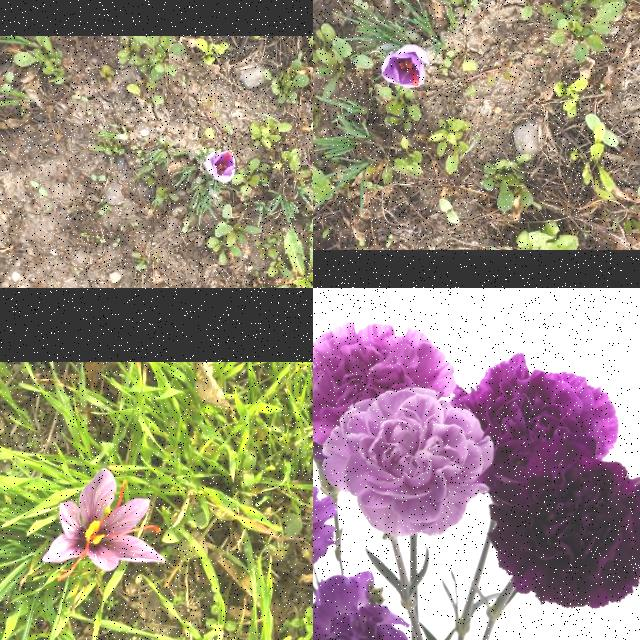flower: (42, 468, 166, 582), (382, 44, 431, 88), (204, 150, 236, 184)
